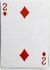two: (1, 1, 48, 69)
